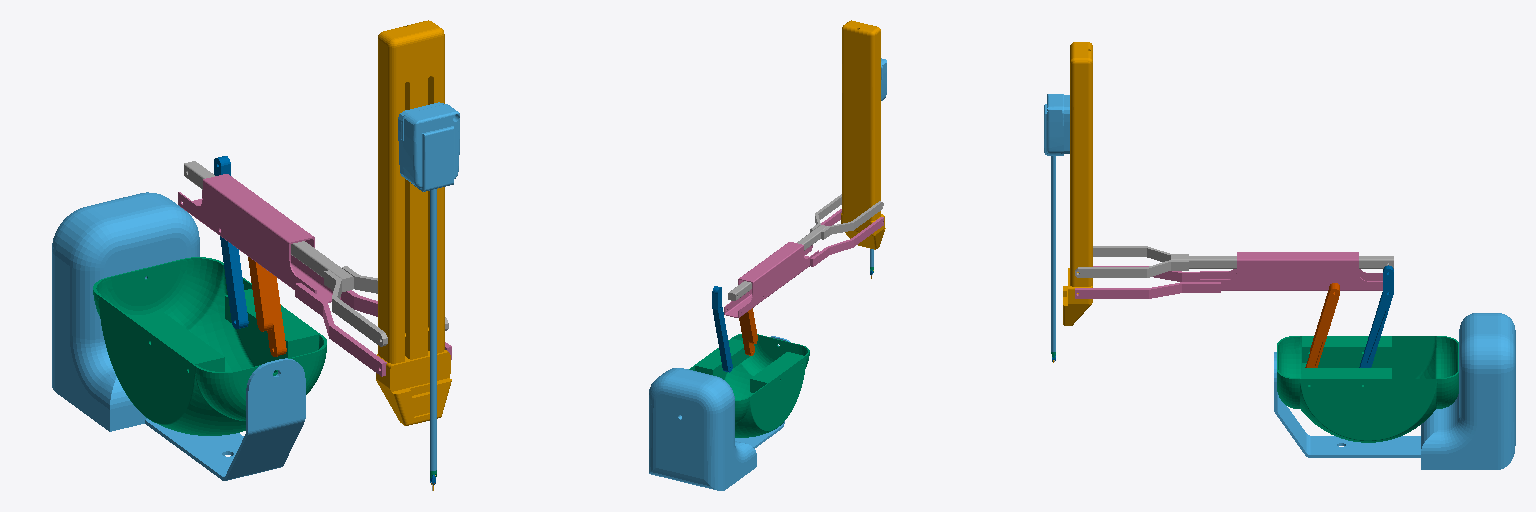
robot.urdf — dvrk_psm1_sca_official:
<?xml version="1.0"?>
<robot name="dvrk_psm1_sca_official">
  <link name="world"/>


    <!-- fixed joint -->
    <joint name="fixed" type="fixed">
      <parent link="world"/>
      <child link="PSM1_psm_base_link"/>
      <origin rpy="0.0 0.0 3.141592653589793" xyz="-0.25 0.0 0.5"/>
    </joint>

    <!-- link 0: psm base link -->
    <link name="PSM1_psm_base_link">
      <inertial>
        <origin xyz="0 0 0" rpy="0 0 0"/>
        <mass value="0.01"/>
        <inertia ixx="1e-5" ixy="0" ixz="0" iyy="1e-5" iyz="0" izz="1e-5"/>
      </inertial>
      <visual>
        <origin rpy="1.5708 0 3.1416" xyz="0.039 -0.40788 -0.07879"/>
        <geometry>
          <mesh filename="converted_meshes/meshes/Classic/PSM/psm_base.obj"/>
        </geometry>
      </visual>
<collision>
        <origin rpy="1.5708 0 3.1416" xyz="0.039 -0.40788 -0.07879"/>
        <geometry>
          <mesh filename="converted_meshes/meshes/Classic/PSM/psm_base.obj"/>
        </geometry>
      </collision>
    </link>

    <!-- joint 1 -->
    <joint name="yaw" type="revolute">
      <parent link="PSM1_psm_base_link"/>
      <child link="PSM1_outer_yaw_link"/>
      <axis xyz="0 0 1"/>
      <!-- <origin rpy="1.5708 -1.5708 0" xyz="0.0 -0.369 0.0"/> -->
      <origin rpy="0 -1.5708 1.5708" xyz="0.0 0.0 0.0"/>
      <limit lower="-1.5707" upper="1.5707" velocity=".4" effort="1000"/>
    </joint>

    <!-- link 1: outer_yaw -->
    <link name="PSM1_outer_yaw_link">
      <inertial>
        <origin xyz="0 0 0" rpy="0 0 0"/>
        <mass value="0.01"/>
        <inertia ixx="1e-5" ixy="0" ixz="0" iyy="1e-5" iyz="0" izz="1e-5"/>
      </inertial>
      <visual>        <!-- <origin rpy="0 0 -1.5708" xyz="0.0125 0 0.1575"/> -->
        <origin rpy="3.1416 0 1.5708" xyz="0.0125 0 0.5265"/>
        <geometry>
          <mesh filename="converted_meshes/meshes/Classic/PSM/outer_yaw.obj"/>
        </geometry>
      </visual>
<collision>        <!-- <origin rpy="0 0 -1.5708" xyz="0.0125 0 0.1575"/> -->
        <origin rpy="3.1416 0 1.5708" xyz="0.0125 0 0.5265"/>
        <geometry>
          <mesh filename="converted_meshes/meshes/Classic/PSM/outer_yaw.obj"/>
        </geometry>
      </collision>
    </link>

    <!-- Note: I can not put visual link here as it's parallel -->
    <!-- mechanism, so the outer_pitch_link does not have visual -->
    <!-- link, all visual links mimic outer_pitch value -->

    <!-- joint 2: outer_pitch -->
    <joint name="pitch" type="revolute">
      <parent link="PSM1_outer_yaw_link"/>
      <child link="PSM1_outer_pitch_link"/>
      <axis xyz="0 0 1"/>
      <origin rpy="-1.5708 -1.5708 0" xyz="0 0 0"/>
      <limit lower="-0.7854" upper="0.7854" velocity=".4" effort="1000"/>
    </joint>
    <!-- link 2: outer_pitch_link -->
    <link name="PSM1_outer_pitch_link">
      <inertial>
        <origin xyz="0 0 0" rpy="0 0 0"/>
        <mass value="0.01"/>
        <inertia ixx="1e-5" ixy="0" ixz="0" iyy="1e-5" iyz="0" izz="1e-5"/>
      </inertial>
    </link>

    <!-- joint 2-1: outer_pitch_1 -->
    <joint name="pitch_1" type="continuous">
      <parent link="PSM1_outer_yaw_link"/>
      <child link="PSM1_outer_pitch_back_link"/>
      <axis xyz="0 0 1"/>
      <!-- <origin rpy="-1.5708 -1.5708 0" xyz="0 0.0295 0.1495"/> -->
      <origin rpy="-1.5708 -1.5708 0" xyz="0 0.0295 0.5185"/>
</joint>

    <!-- link 2-1: outer_pitch_back -->
    <link name="PSM1_outer_pitch_back_link">
      <inertial>
        <origin xyz="0 0 0" rpy="0 0 0"/>
        <mass value="0.01"/>
        <inertia ixx="1e-5" ixy="0" ixz="0" iyy="1e-5" iyz="0" izz="1e-5"/>
      </inertial>
      <visual>
        <origin rpy="0 0 -0.27129" xyz="0 0 0"/>
        <geometry>
          <mesh filename="converted_meshes/meshes/Classic/PSM/outer_pitch_back.obj"/>
        </geometry>
      </visual>
<collision>
        <origin rpy="0 0 -0.27129" xyz="0 0 0"/>
        <geometry>
          <mesh filename="converted_meshes/meshes/Classic/PSM/outer_pitch_back.obj"/>
        </geometry>
      </collision>
    </link>

    <!-- joint 2-2: outer_pitch_2 -->
    <joint name="pitch_2" type="continuous">
      <parent link="PSM1_outer_yaw_link"/>
      <child link="PSM1_outer_pitch_front_link"/>
      <axis xyz="0 0 1"/>
      <origin rpy="-1.5708 -1.5708 0" xyz="0 0.0295 0.4285"/>
</joint>

    <!-- link 2-2: outer_pitch_front -->
    <link name="PSM1_outer_pitch_front_link">
      <inertial>
        <origin xyz="0 0 0" rpy="0 0 0"/>
        <mass value="0.01"/>
        <inertia ixx="1e-5" ixy="0" ixz="0" iyy="1e-5" iyz="0" izz="1e-5"/>
      </inertial>
      <visual>
        <origin rpy="0 0 -0.27129" xyz="0 0 0"/>
        <geometry>
          <mesh filename="converted_meshes/meshes/Classic/PSM/outer_pitch_front.obj"/>
        </geometry>
      </visual>
<collision>
        <origin rpy="0 0 -0.27129" xyz="0 0 0"/>
        <geometry>
          <mesh filename="converted_meshes/meshes/Classic/PSM/outer_pitch_front.obj"/>
        </geometry>
      </collision>
    </link>

    <!-- joint 2-3: outer_pitch_3 -->
    <joint name="pitch_3" type="continuous">
      <parent link="PSM1_outer_pitch_back_link"/>
      <child link="PSM1_outer_pitch_bottom_link"/>
      <axis xyz="0 0 1"/>
      <origin rpy="0 0 0" xyz="0.04178 0.15007 -0.0137"/>
</joint>

    <!-- link 2-3: outer_pitch_bottom -->
    <link name="PSM1_outer_pitch_bottom_link">
      <inertial>
        <origin xyz="0 0 0" rpy="0 0 0"/>
        <mass value="0.01"/>
        <inertia ixx="1e-5" ixy="0" ixz="0" iyy="1e-5" iyz="0" izz="1e-5"/>
      </inertial>
      <visual>
        <origin rpy="0 -1.5708 0" xyz="0.009 0 0"/>
        <geometry>
          <mesh filename="converted_meshes/meshes/Classic/PSM/outer_pitch_bottom.obj"/>
        </geometry>
      </visual>
<collision>
        <origin rpy="0 -1.5708 0" xyz="0.009 0 0"/>
        <geometry>
          <mesh filename="converted_meshes/meshes/Classic/PSM/outer_pitch_bottom.obj"/>
        </geometry>
      </collision>
    </link>

    <!-- joint 2-4: outer_pitch_4 -->
    <joint name="pitch_4" type="continuous">
      <parent link="PSM1_outer_pitch_back_link"/>
      <child link="PSM1_outer_pitch_top_link"/>
      <axis xyz="0 0 1"/>
      <origin rpy="0 0 0" xyz="0.04209 0.18695 -0.02412"/>
</joint>

    <!-- link 2-4: outer_pitch_top -->
    <link name="PSM1_outer_pitch_top_link">
      <inertial>
        <origin xyz="0 0 0" rpy="0 0 0"/>
        <mass value="0.01"/>
        <inertia ixx="1e-5" ixy="0" ixz="0" iyy="1e-5" iyz="0" izz="1e-5"/>
      </inertial>
      <visual>
        <origin rpy="0 -1.5708 0" xyz="0.009 0 0"/>
        <geometry>
          <mesh filename="converted_meshes/meshes/Classic/PSM/outer_pitch_top.obj"/>
        </geometry>
      </visual>
<collision>
        <origin rpy="0 -1.5708 0" xyz="0.009 0 0"/>
        <geometry>
          <mesh filename="converted_meshes/meshes/Classic/PSM/outer_pitch_top.obj"/>
        </geometry>
      </collision>
    </link>

    <!-- joint 2-5: outer_pitch_5 -->
    <joint name="pitch_5" type="continuous">
      <parent link="PSM1_outer_pitch_bottom_link"/>
      <child link="PSM1_outer_insertion_link"/>
      <axis xyz="0 0 1"/>
      <origin rpy="0 0 0" xyz="-0.520 0 -0.0155"/>
</joint>

    <!-- link 2-5: outer_insertion -->
    <link name="PSM1_outer_insertion_link">
      <inertial>
        <origin xyz="0 0 0" rpy="0 0 0"/>
        <mass value="0.01"/>
        <inertia ixx="1e-5" ixy="0" ixz="0" iyy="1e-5" iyz="0" izz="1e-5"/>
      </inertial>
      <visual>
        <origin rpy="0 -1.5708 1.5708" xyz="0.02528 0.429 0"/>
        <geometry>
          <mesh filename="converted_meshes/meshes/Classic/PSM/outer_insertion.obj"/>
        </geometry>
      </visual>
<collision>
        <origin rpy="0 -1.5708 1.5708" xyz="0.02528 0.429 0"/>
        <geometry>
          <mesh filename="converted_meshes/meshes/Classic/PSM/outer_insertion.obj"/>
        </geometry>
      </collision>
    </link>

    <!-- joint 3: insertion -->
    <joint name="insertion" type="prismatic">
      <!-- <parent link="PSM1_outer_insertion_link"/> -->
      <!-- <parent link="PSM1_psm_base_link"/> -->
      <parent link="PSM1_outer_pitch_link"/>
      <child link="PSM1_tool_main_link"/>
      <axis xyz="0 0 1"/>
      <origin rpy="1.5708 0 0" xyz="0 0.4318 0"/>
      <limit lower="0" upper="0.240" velocity=".4" effort="1000"/>
    </joint>

    <!-- link 3: tool_main_link -->
    <link name="PSM1_tool_main_link">
      <inertial>
        <origin xyz="0 0 0" rpy="0 0 0"/>
        <mass value="0.01"/>
        <inertia ixx="1e-5" ixy="0" ixz="0" iyy="1e-5" iyz="0" izz="1e-5"/>
      </inertial>
      <visual>
        <origin rpy="0 0 1.5708" xyz="0 0 0.041"/>
        <geometry>
          <mesh filename="converted_meshes/meshes/Classic/PSM/tool_main.obj"/>
        </geometry>
      </visual>
<collision>
        <origin rpy="0 0 1.5708" xyz="0 0 0.041"/>
        <geometry>
          <mesh filename="converted_meshes/meshes/Classic/PSM/tool_main.obj"/>
        </geometry>
      </collision>
    </link>

    <!-- joint 4: Outer Roll -->
    <joint name="roll" type="revolute">
      <parent link="PSM1_tool_main_link"/>
      <child link="PSM1_tool_wrist_link"/>
      <axis xyz="0 0 1"/>
      <origin rpy="0 0 0" xyz="0 0 0.4162"/>
      <limit lower="-2.2689" upper="2.2689" velocity=".4" effort="1000"/>
    </joint>

    <!-- link 4: tool_wrist_link -->
    <link name="PSM1_tool_wrist_link">
      <inertial>
        <origin xyz="0 0 0" rpy="0 0 0"/>
        <mass value="0.01"/>
        <inertia ixx="1e-5" ixy="0" ixz="0" iyy="1e-5" iyz="0" izz="1e-5"/>
      </inertial>
      <visual>
        <origin rpy="0 0 1.5708" xyz="0 0 -0.0091"/>
        <geometry>
          <mesh filename="converted_meshes/meshes/Classic/PSM/tool_wrist_link.obj"/>
        </geometry>
      </visual>
<collision>
        <origin rpy="0 0 1.5708" xyz="0 0 -0.0091"/>
        <geometry>
          <mesh filename="converted_meshes/meshes/Classic/PSM/tool_wrist_link.obj"/>
        </geometry>
      </collision>
    </link>

    <!-- joint 4-1: outer roll shaft joint FIXED-->
    <joint name="roll_shaft" type="fixed">
      <parent link="PSM1_tool_wrist_link"/>
      <child link="PSM1_tool_wrist_shaft_link"/>
      <axis xyz="0 0 1"/>
      <origin rpy="0 0 0" xyz="0 0 0.0"/>
    </joint>

    <!-- link 4-1: tool_wrist_shaft_link -->
    <link name="PSM1_tool_wrist_shaft_link">
      <inertial>
        <origin xyz="0 0 0" rpy="0 0 0"/>
        <mass value="0.01"/>
        <inertia ixx="1e-5" ixy="0" ixz="0" iyy="1e-5" iyz="0" izz="1e-5"/>
      </inertial>
      <visual>
        <origin rpy="1.5708 0 0" xyz="0 0.00401 0"/>
        <geometry>
          <mesh filename="converted_meshes/meshes/Classic/PSM/tool_wrist_shaft_link.obj"/>
        </geometry>
      </visual>
<collision>
        <origin rpy="1.5708 0 0" xyz="0 0.00401 0"/>
        <geometry>
          <mesh filename="converted_meshes/meshes/Classic/PSM/tool_wrist_shaft_link.obj"/>
        </geometry>
      </collision>
    </link>
  


    <!-- joint 5: Outer wrist pitch joint -->
    <joint name="wrist_pitch" type="revolute">
      <parent link="PSM1_tool_wrist_shaft_link"/>
      <child link="PSM1_tool_wrist_sca_link"/>
      <axis xyz="0 0 1"/>
      <origin rpy="-1.5708 -1.5708 0" xyz="0 0 0"/>
      <limit lower="-1.5707" upper="1.5707" velocity=".4" effort="1000"/>
    </joint>

    <!-- link 5: tool_wrist_sca_link -->
    <link name="PSM1_tool_wrist_sca_link">
      <inertial>
        <origin xyz="0 0 0" rpy="0 0 0"/>
        <mass value="0.01"/>
        <inertia ixx="1e-5" ixy="0" ixz="0" iyy="1e-5" iyz="0" izz="1e-5"/>
      </inertial>
      <visual>
        <!-- <origin rpy="0 3.1416 0" xyz="0 0 0"/> -->
        <origin rpy="1.5708 3.1416 0" xyz="0.0051 0.0032 0"/>
        <geometry>
          <mesh filename="converted_meshes/meshes/Classic/PSM/tool_wrist_sca_link.obj"/>
        </geometry>
      </visual>
<collision>
        <!-- <origin rpy="0 3.1416 0" xyz="0 0 0"/> -->
        <origin rpy="1.5708 3.1416 0" xyz="0.0051 0.0032 0"/>
        <geometry>
          <mesh filename="converted_meshes/meshes/Classic/PSM/tool_wrist_sca_link.obj"/>
        </geometry>
      </collision>
    </link>

    <!-- joint 6: Outer wrist yaw joint -->
    <joint name="wrist_yaw" type="revolute">
      <parent link="PSM1_tool_wrist_sca_link"/>
      <child link="PSM1_tool_wrist_sca_shaft_link"/>
      <axis xyz="0 0 1"/>
      <origin rpy="-1.5708 -1.5708 0" xyz="0.0091 0 0"/>
      <!-- +/- 80 deg -->
      <limit lower="-1.3963" upper="1.3963" velocity=".4" effort="1000"/>
    </joint>

    <!-- link 6: tool_wrist_sca_shaft_link -->
    <link name="PSM1_tool_wrist_sca_shaft_link">
      <inertial>
        <origin xyz="0 0 0" rpy="0 0 0"/>
        <mass value="0.01"/>
        <inertia ixx="1e-5" ixy="0" ixz="0" iyy="1e-5" iyz="0" izz="1e-5"/>
      </inertial>
      <visual>
        <origin rpy="0 0 0" xyz="0 -0.0002 -0.0025"/>
        <geometry>
          <mesh filename="converted_meshes/meshes/Classic/PSM/tool_wrist_sca_shaft_link.obj"/>
        </geometry>
      </visual>
<collision>
        <origin rpy="0 0 0" xyz="0 -0.0002 -0.0025"/>
        <geometry>
          <mesh filename="converted_meshes/meshes/Classic/PSM/tool_wrist_sca_shaft_link.obj"/>
        </geometry>
      </collision>
    </link>

    <!-- joint 7-0: Outer open angle 1  -->
    <joint name="jaw" type="revolute">
      <parent link="PSM1_tool_wrist_sca_shaft_link"/>
      <child link="PSM1_tool_wrist_sca_ee_link_0"/>
      <axis xyz="0 0 1"/>
      <origin rpy="0 0 0" xyz="0 0 0"/>
      <limit lower="0" upper="1.5707" velocity=".4" effort="1000"/>
    </joint>

    <!-- link 7-0: Outer open angle virtual -->
    <link name="PSM1_tool_wrist_sca_ee_link_0">
      <inertial>
        <origin xyz="0 0 0" rpy="0 0 0"/>
        <mass value="0.01"/>
        <inertia ixx="1e-5" ixy="0" ixz="0" iyy="1e-5" iyz="0" izz="1e-5"/>
      </inertial>
      <visual>
        <origin rpy="0 0 0" xyz="0 0 0"/>
        <geometry>
          <box size="0.001 0.001 0.001"/>
        </geometry>
      </visual>
<collision>
        <origin rpy="0 0 0" xyz="0 0 0"/>
        <geometry>
          <box size="0.001 0.001 0.001"/>
        </geometry>
      </collision>
    </link>

    <!-- joint 7-1: Outer open angle 1  -->
    <joint name="jaw_mimic_1" type="revolute">
      <parent link="PSM1_tool_wrist_sca_shaft_link"/>
      <child link="PSM1_tool_wrist_sca_ee_link_1"/>
      <axis xyz="0 0 1"/>
      <origin rpy="0 0 0" xyz="0 0 0"/>
      <limit lower="-1.5707" upper="1.5707" velocity=".4" effort="1000"/>
</joint>

    <!-- link 7-1: Outer open angle link 1 -->
    <link name="PSM1_tool_wrist_sca_ee_link_1">
      <inertial>
        <origin xyz="0 0 0" rpy="0 0 0"/>
        <mass value="0.01"/>
        <inertia ixx="1e-5" ixy="0" ixz="0" iyy="1e-5" iyz="0" izz="1e-5"/>
      </inertial>
      <visual>
        <origin rpy="0 0 0" xyz="0 0 0"/>
        <geometry>
          <mesh filename="converted_meshes/meshes/Classic/PSM/tool_wrist_sca_link_2.obj"/>
        </geometry>
      </visual>
<collision>
        <origin rpy="0 0 0" xyz="0 0 0"/>
        <geometry>
          <mesh filename="converted_meshes/meshes/Classic/PSM/tool_wrist_sca_link_2.obj"/>
        </geometry>
      </collision>
    </link>

    <!-- joint 7-2: Outer open angle 2   -->
    <joint name="jaw_mimic_2" type="revolute">
      <parent link="PSM1_tool_wrist_sca_shaft_link"/>
      <child link="PSM1_tool_wrist_sca_ee_link_2"/>
      <axis xyz="0 0 1"/>
      <origin rpy="0 0 0" xyz="0 0 0"/>
      <limit lower="-1.5707" upper="1.5707" velocity=".4" effort="1000"/>
</joint>

    <!-- link 7-2: Outer open angle link 2 -->
    <link name="PSM1_tool_wrist_sca_ee_link_2">
      <inertial>
        <origin xyz="0 0 0" rpy="0 0 0"/>
        <mass value="0.01"/>
        <inertia ixx="1e-5" ixy="0" ixz="0" iyy="1e-5" iyz="0" izz="1e-5"/>
      </inertial>
      <visual>
        <origin rpy="0 3.1516 0" xyz="0 0 0"/>
        <geometry>
          <mesh filename="converted_meshes/meshes/Classic/PSM/tool_wrist_sca_link_2.obj"/>
        </geometry>
      </visual>
<collision>
        <origin rpy="0 3.1516 0" xyz="0 0 0"/>
        <geometry>
          <mesh filename="converted_meshes/meshes/Classic/PSM/tool_wrist_sca_link_2.obj"/>
        </geometry>
      </collision>
    </link>

    <!-- tool tip -->
    <joint name="tool_tip" type="fixed">
      <parent link="PSM1_tool_wrist_sca_shaft_link"/>
      <child link="PSM1_tool_tip_link"/>
      <origin rpy="0 1.5707963267948966 1.5707963267948966" xyz="0 0.0102 0"/>
    </joint>
    <link name="PSM1_tool_tip_link">
      <inertial>
        <origin xyz="0 0 0" rpy="0 0 0"/>
        <mass value="0.01"/>
        <inertia ixx="1e-5" ixy="0" ixz="0" iyy="1e-5" iyz="0" izz="1e-5"/>
      </inertial>
    </link>

  
</robot>

--- What the picture shows (computed from the rendered views, not written in the file) ---
The picture shows the robot from 3 angles, left to right: view 1: azimuth 30°, elevation 25°; view 2: azimuth 150°, elevation 25°; view 3: azimuth 270°, elevation 25°; orthographic projection.
Model dvrk_psm1_sca_official with 18 links and 17 joints (8 revolute, 5 continuous, 1 prismatic, 3 fixed), rooted at world, posed every joint at zero.
Links seen in each view (by area): view 1: PSM1_psm_base_link, PSM1_outer_yaw_link, PSM1_outer_insertion_link, PSM1_outer_pitch_bottom_link, PSM1_tool_main_link, PSM1_outer_pitch_top_link, PSM1_outer_pitch_front_link, PSM1_outer_pitch_back_link; view 2: PSM1_psm_base_link, PSM1_outer_insertion_link, PSM1_outer_yaw_link, PSM1_outer_pitch_bottom_link, PSM1_outer_pitch_top_link, PSM1_outer_pitch_back_link, PSM1_outer_pitch_front_link; view 3: PSM1_outer_yaw_link, PSM1_psm_base_link, PSM1_outer_pitch_bottom_link, PSM1_outer_insertion_link, PSM1_outer_pitch_top_link, PSM1_tool_main_link, PSM1_outer_pitch_back_link, PSM1_outer_pitch_front_link.
Boxes of the visible links, x1,y1,x2,y2 form: PSM1_psm_base_link: [52, 192, 305, 480]; PSM1_outer_yaw_link: [93, 257, 326, 435]; PSM1_outer_insertion_link: [376, 20, 451, 425]; PSM1_outer_pitch_bottom_link: [178, 174, 451, 376]; PSM1_tool_main_link: [398, 102, 459, 470]; PSM1_outer_pitch_top_link: [184, 161, 448, 346]; PSM1_outer_pitch_front_link: [248, 257, 286, 356]; PSM1_outer_pitch_back_link: [214, 156, 248, 328]; PSM1_psm_base_link: [649, 336, 789, 490]; PSM1_outer_insertion_link: [841, 20, 885, 249]; PSM1_outer_yaw_link: [689, 334, 809, 437]; PSM1_outer_pitch_bottom_link: [724, 209, 883, 317]; PSM1_outer_pitch_top_link: [728, 194, 883, 300]; PSM1_outer_pitch_back_link: [712, 286, 732, 372]; PSM1_outer_pitch_front_link: [739, 308, 757, 355]; PSM1_outer_yaw_link: [1277, 336, 1458, 442]; PSM1_psm_base_link: [1274, 313, 1515, 469]; PSM1_outer_pitch_bottom_link: [1075, 252, 1382, 298]; PSM1_outer_insertion_link: [1063, 42, 1092, 325]; PSM1_outer_pitch_top_link: [1075, 246, 1393, 277]; PSM1_tool_main_link: [1044, 94, 1069, 351]; PSM1_outer_pitch_back_link: [1359, 265, 1393, 367]; PSM1_outer_pitch_front_link: [1305, 283, 1339, 367].
Bounding box of the posed robot: 0.173 × 0.7887 × 0.7341 m (x, y, z).
14 mesh visuals loaded from 13 distinct referenced files (13 OBJ).
